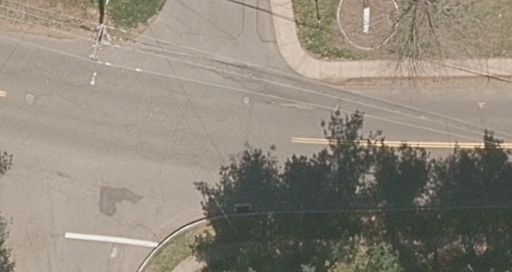DT: (87, 20, 114, 61)
